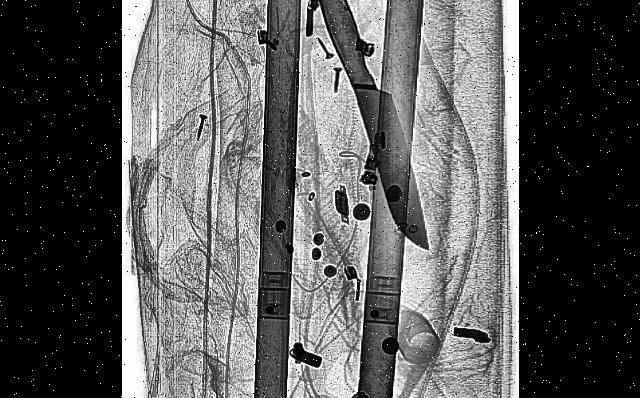Knife: (306, 0, 441, 268)
